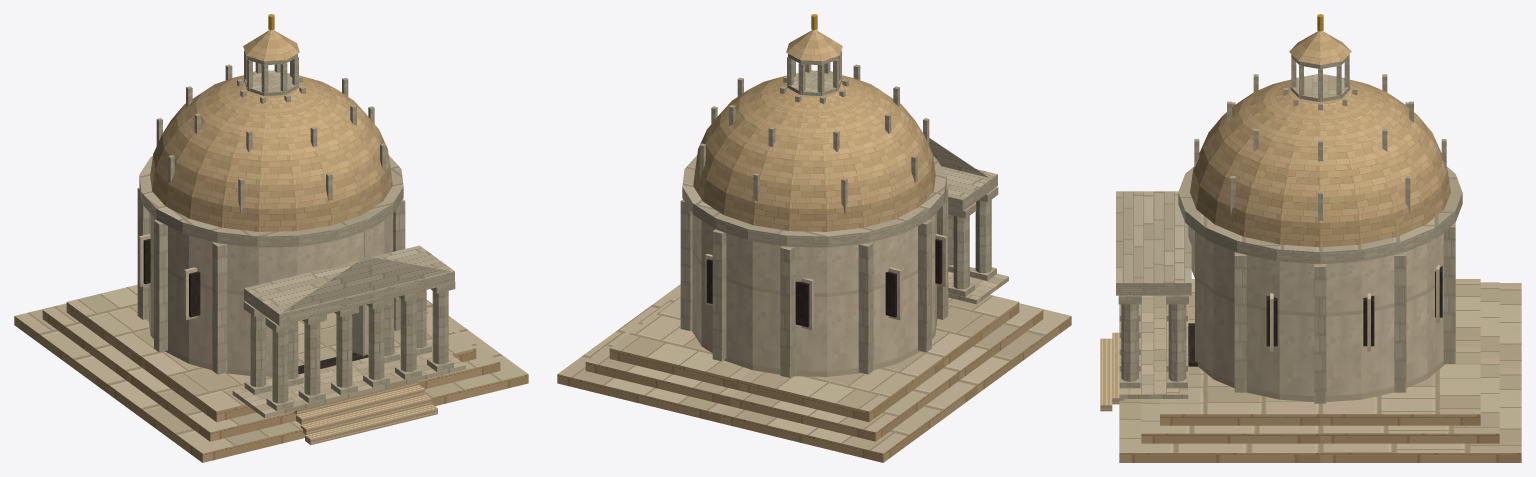
The model's file is temple.glb.
3 views of the same model, side by side, from view 1: azimuth 30°, elevation 25°; view 2: azimuth 150°, elevation 25°; view 3: azimuth 270°, elevation 25° (orthographic). The views are drawn at different scales.
Visible parts, largest first — view 1: ae_sand_dome_temple_lod0; view 2: ae_sand_dome_temple_lod0; view 3: ae_sand_dome_temple_lod0.
Part boxes in pixels (x1,y1,x2,y2): ae_sand_dome_temple_lod0: [14, 14, 528, 462]; ae_sand_dome_temple_lod0: [557, 14, 1071, 462]; ae_sand_dome_temple_lod0: [1100, 14, 1521, 462].
Bounding box in the file's own units: 9.72 × 9.66 × 10.17.
Materials: 1 (1 with a texture image).
